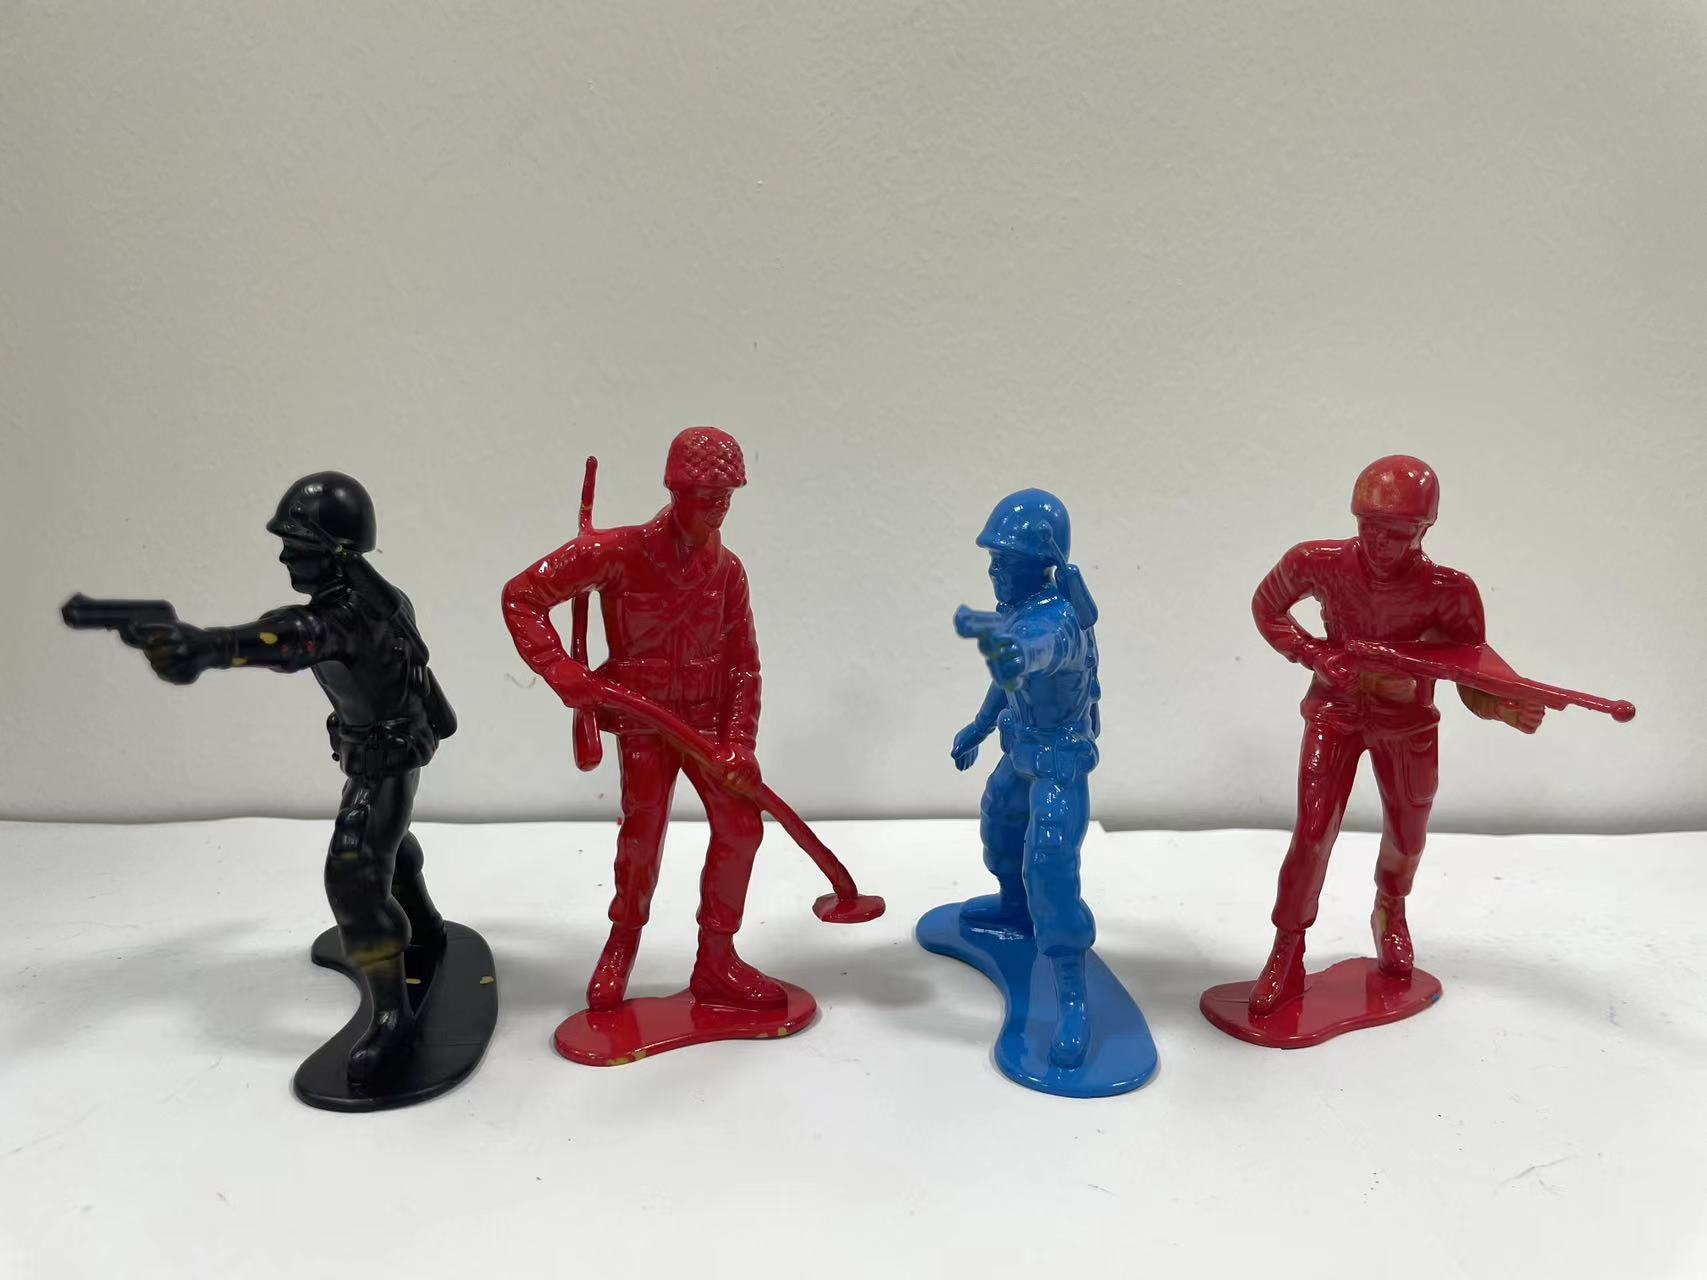black: (67, 460, 508, 1146)
blue: (886, 448, 1179, 1131)
red: (1169, 428, 1663, 1140), (496, 391, 892, 1128)
